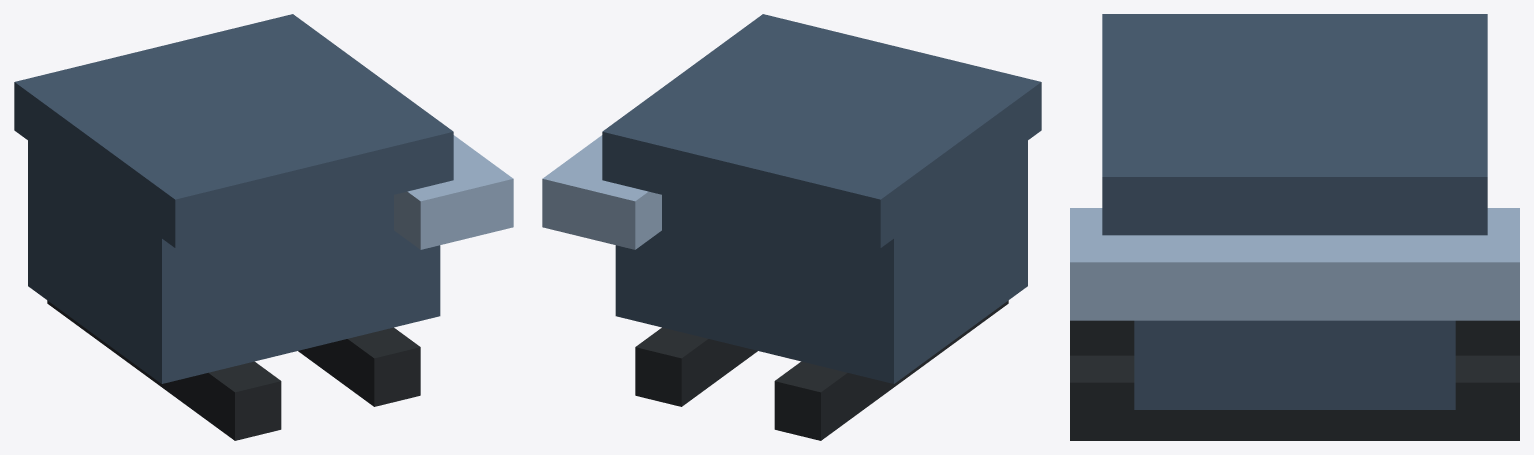
File: minecart.glb
3 renders of one model, left to right at view 1: azimuth 30°, elevation 25°; view 2: azimuth 150°, elevation 25°; view 3: azimuth 270°, elevation 25°, orthographic. The views are drawn at different scales.
Parts seen in each view (by area): view 1: generated(Clone); view 2: generated(Clone); view 3: generated(Clone).
Boxes of the visible parts, x1,y1,x2,y2 form: generated(Clone): [14, 14, 513, 440]; generated(Clone): [542, 14, 1041, 440]; generated(Clone): [1070, 14, 1519, 440].
Bounding box in the file's own units: 7 × 5 × 7.
Materials: 1 (1 with a texture image).
